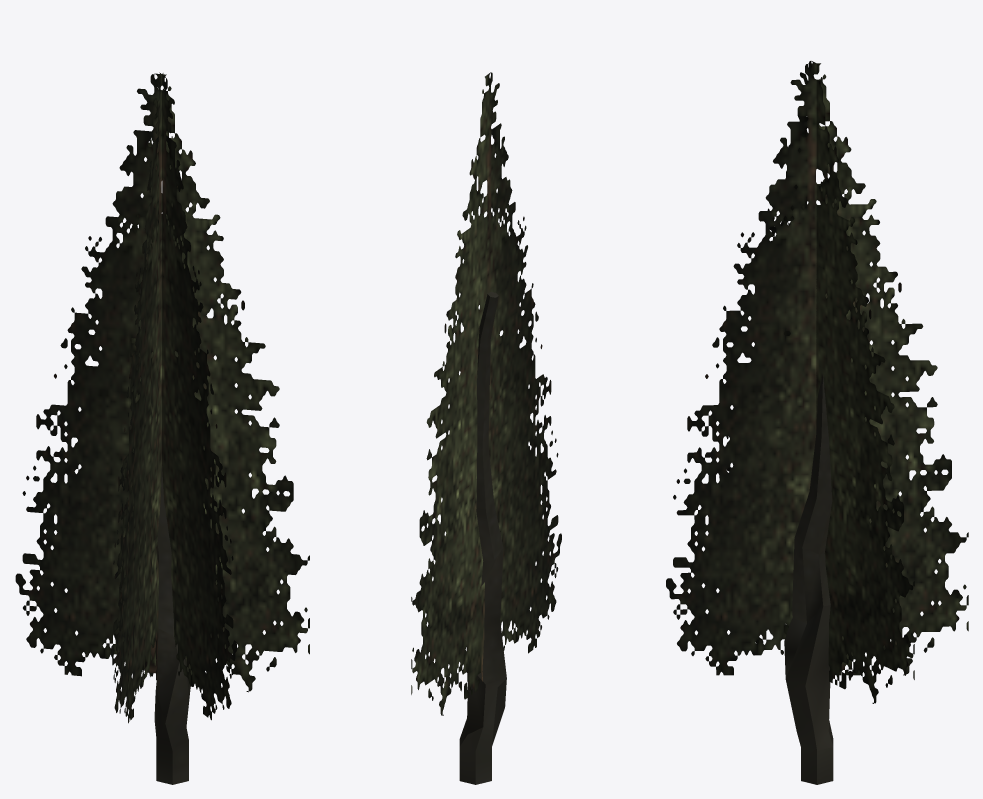
The model's file is GrandHeresy_LeafTree.fbx.
The picture shows the model from 3 angles, left to right: view 1: azimuth 30°, elevation 25°; view 2: azimuth 150°, elevation 25°; view 3: azimuth 270°, elevation 25°; orthographic projection.
Visible parts, largest first — view 1: Leaf1, Leaf3, Leaf2, Tree; view 2: Leaf3, Tree; view 3: Leaf3, Leaf2, Tree.
Boxes of the visible parts, x1,y1,x2,y2 form: Leaf1: (15,73,309,692); Leaf3: (114,72,236,720); Leaf2: (111,73,172,723); Tree: (140,288,190,784); Leaf3: (411,72,561,715); Tree: (459,292,506,784); Leaf3: (666,63,968,675); Leaf2: (726,61,914,703); Tree: (784,375,833,784).
Size of the model in its own units: 339 by 1140 by 444.
Materials: 2 (2 with a texture image).
